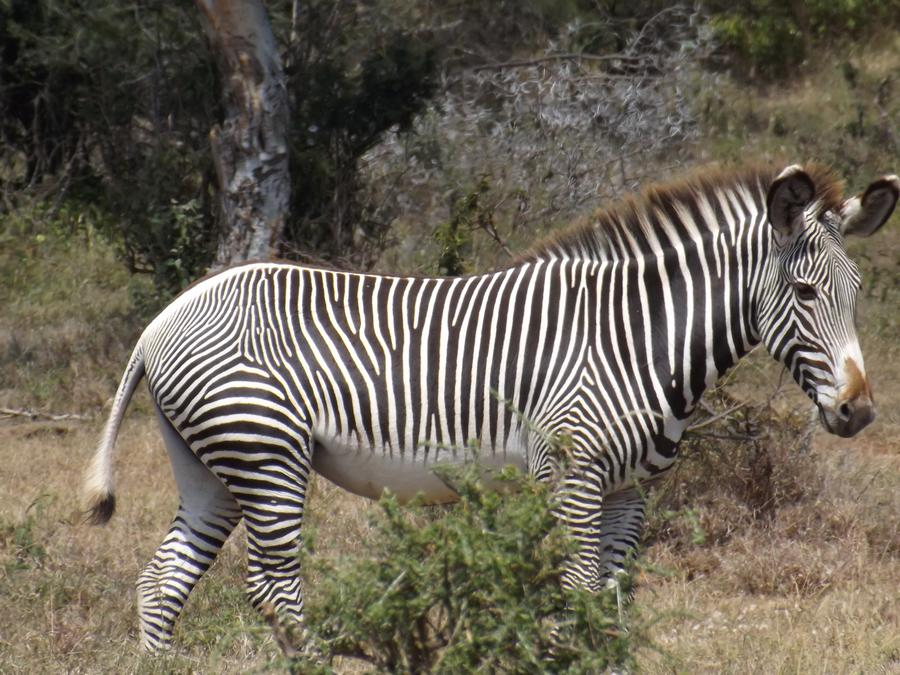zebra_grevys: (137, 256, 670, 467)
